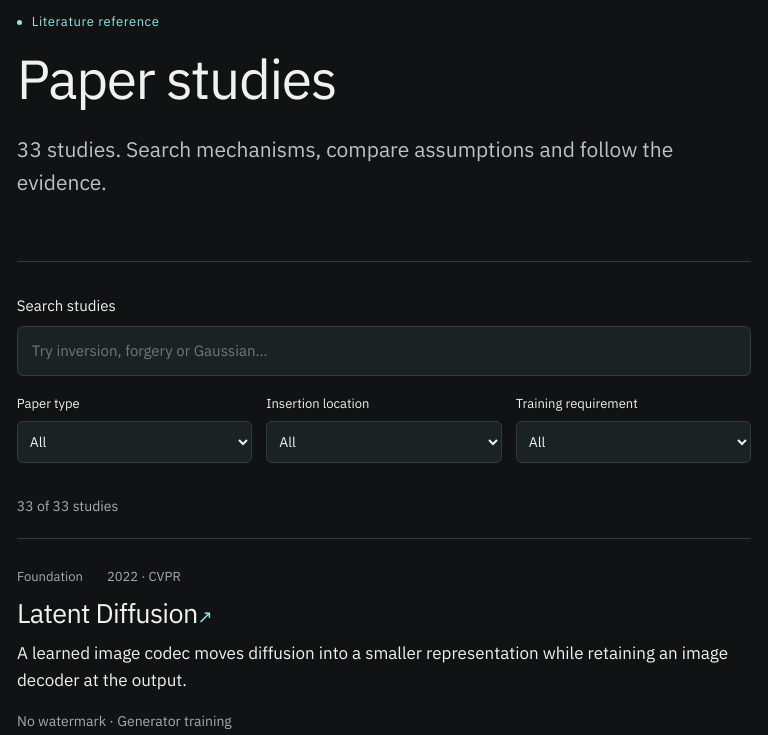
Test: research index › does not index the unlisted proposal
The image size is (768, 735).
Type "/research/gaps2" into the search field.
click(384, 350); type("/research/gaps2")  # box [17,326,751,376]
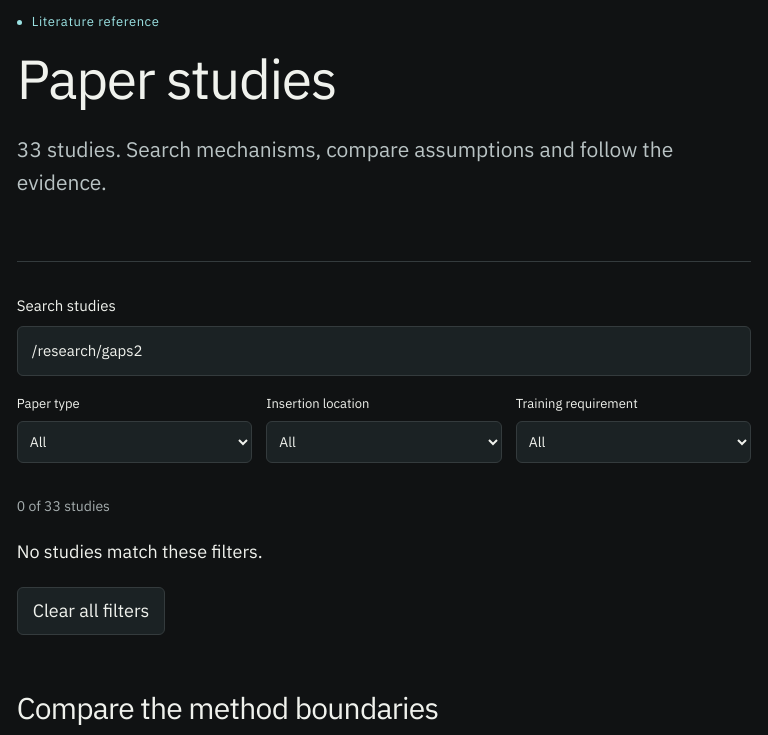
expect the message reads "0 of 33 studies": met, box [17,497,110,515]
